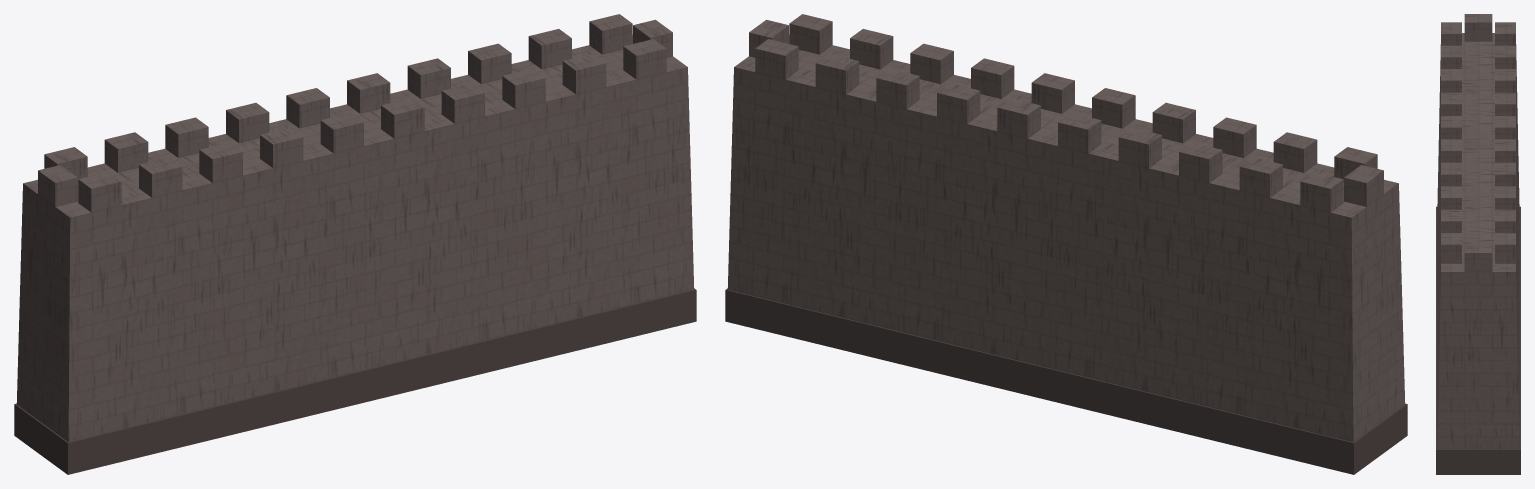
Rendered from SM_Souq_Wall_H32.fbx.
The picture shows the model from 3 angles, left to right: view 1: azimuth 30°, elevation 25°; view 2: azimuth 150°, elevation 25°; view 3: azimuth 270°, elevation 25°; orthographic projection. The views are drawn at different scales.
Parts seen in each view (by area): view 1: SM_Souq_Wall_H32; view 2: SM_Souq_Wall_H32; view 3: SM_Souq_Wall_H32.
Part boxes in pixels (<box>): SM_Souq_Wall_H32: <box>14,14,696,474</box>; SM_Souq_Wall_H32: <box>725,14,1407,474</box>; SM_Souq_Wall_H32: <box>1436,14,1520,474</box>.
Size of the model in its own units: 830 by 350 by 122.
Materials: 2 (2 with a texture image).
